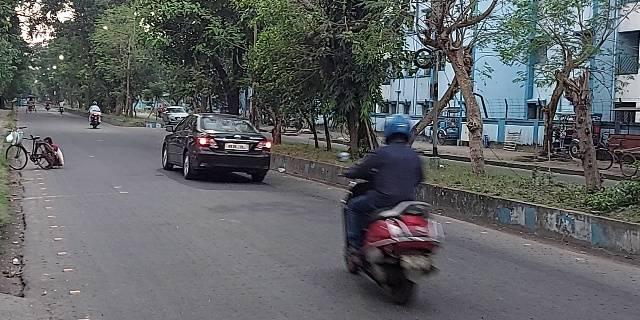Car: (159, 115, 276, 178)
Cycle: (6, 132, 58, 171)
Motorbike: (333, 110, 449, 301), (86, 101, 106, 130)
